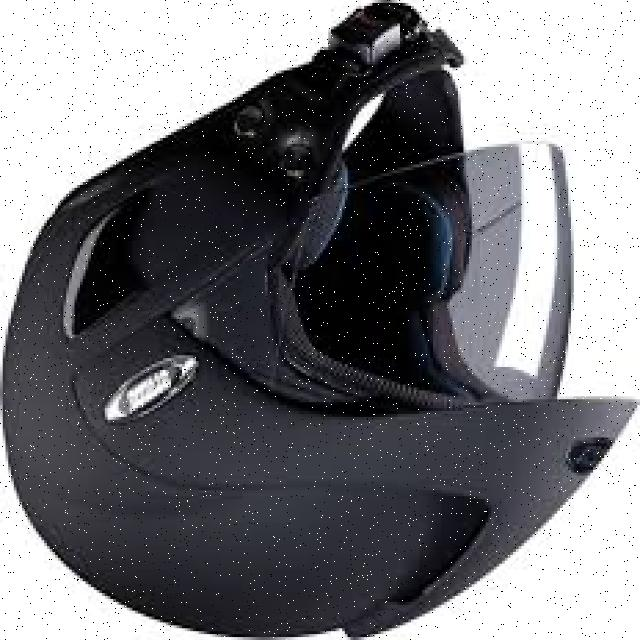Helmet: (4, 4, 634, 636)
